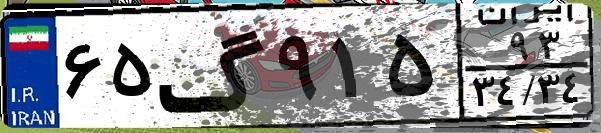1: (330, 28, 385, 110)
3: (537, 27, 568, 80), (470, 70, 495, 125), (535, 70, 560, 125)
4: (560, 70, 590, 125), (495, 70, 520, 125)
5: (385, 28, 445, 110), (110, 28, 156, 98)
6: (57, 26, 110, 100)
9: (270, 28, 330, 110), (508, 27, 537, 80)
گ: (156, 12, 270, 120)
